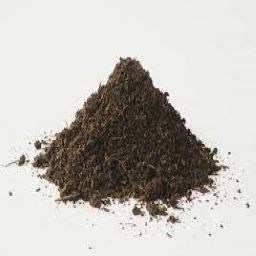dirt: (34, 55, 220, 218)
